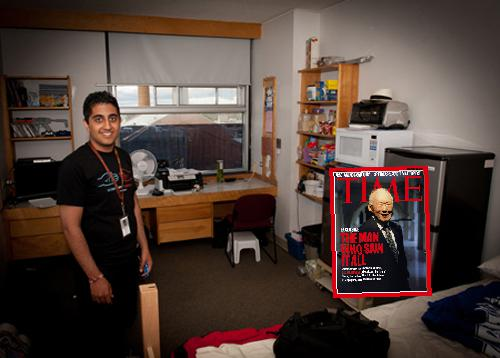times: (329, 163, 432, 298)
